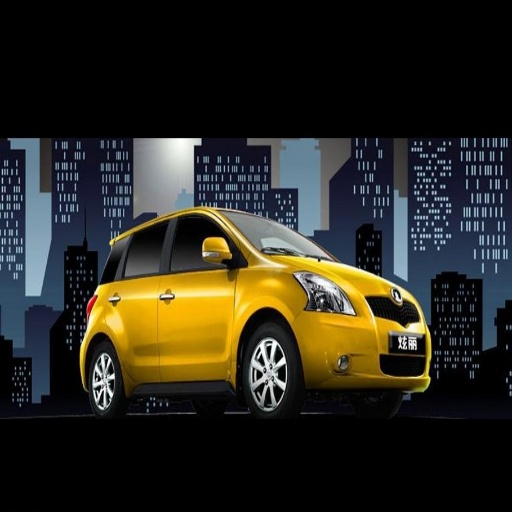front_bumper: (298, 287, 436, 389)
front_right_door: (158, 212, 238, 378)
front_right_light: (296, 273, 355, 315)
